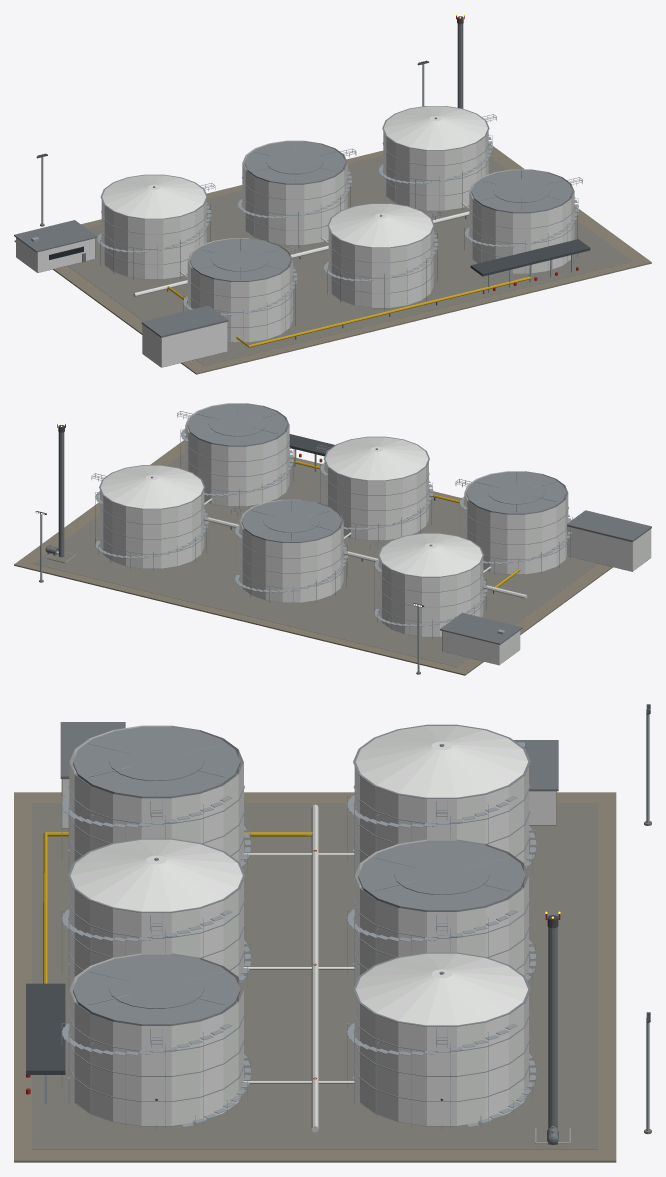
Rendered from mid_tank_terminal.glb.
3 views of the same model, one above another, from view 1: azimuth 30°, elevation 25°; view 2: azimuth 150°, elevation 25°; view 3: azimuth 270°, elevation 25° (orthographic). The views are drawn at different scales.
Visible parts, largest first — view 1: mid_tank_terminal; view 2: mid_tank_terminal; view 3: mid_tank_terminal.
Boxes of the visible parts, x1,y1,x2,y2 form: mid_tank_terminal: (14,14,651,374); mid_tank_terminal: (14,403,651,675); mid_tank_terminal: (14,704,651,1162).
Bounding box in the file's own units: 115 × 31.49 × 80.5.
